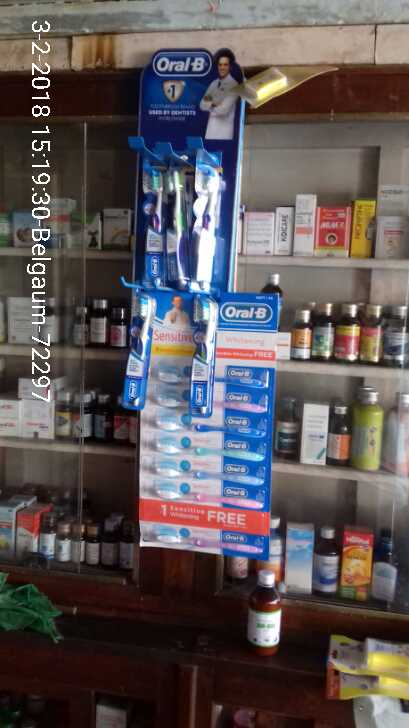oralb: (131, 290, 283, 562), (134, 170, 228, 295)
